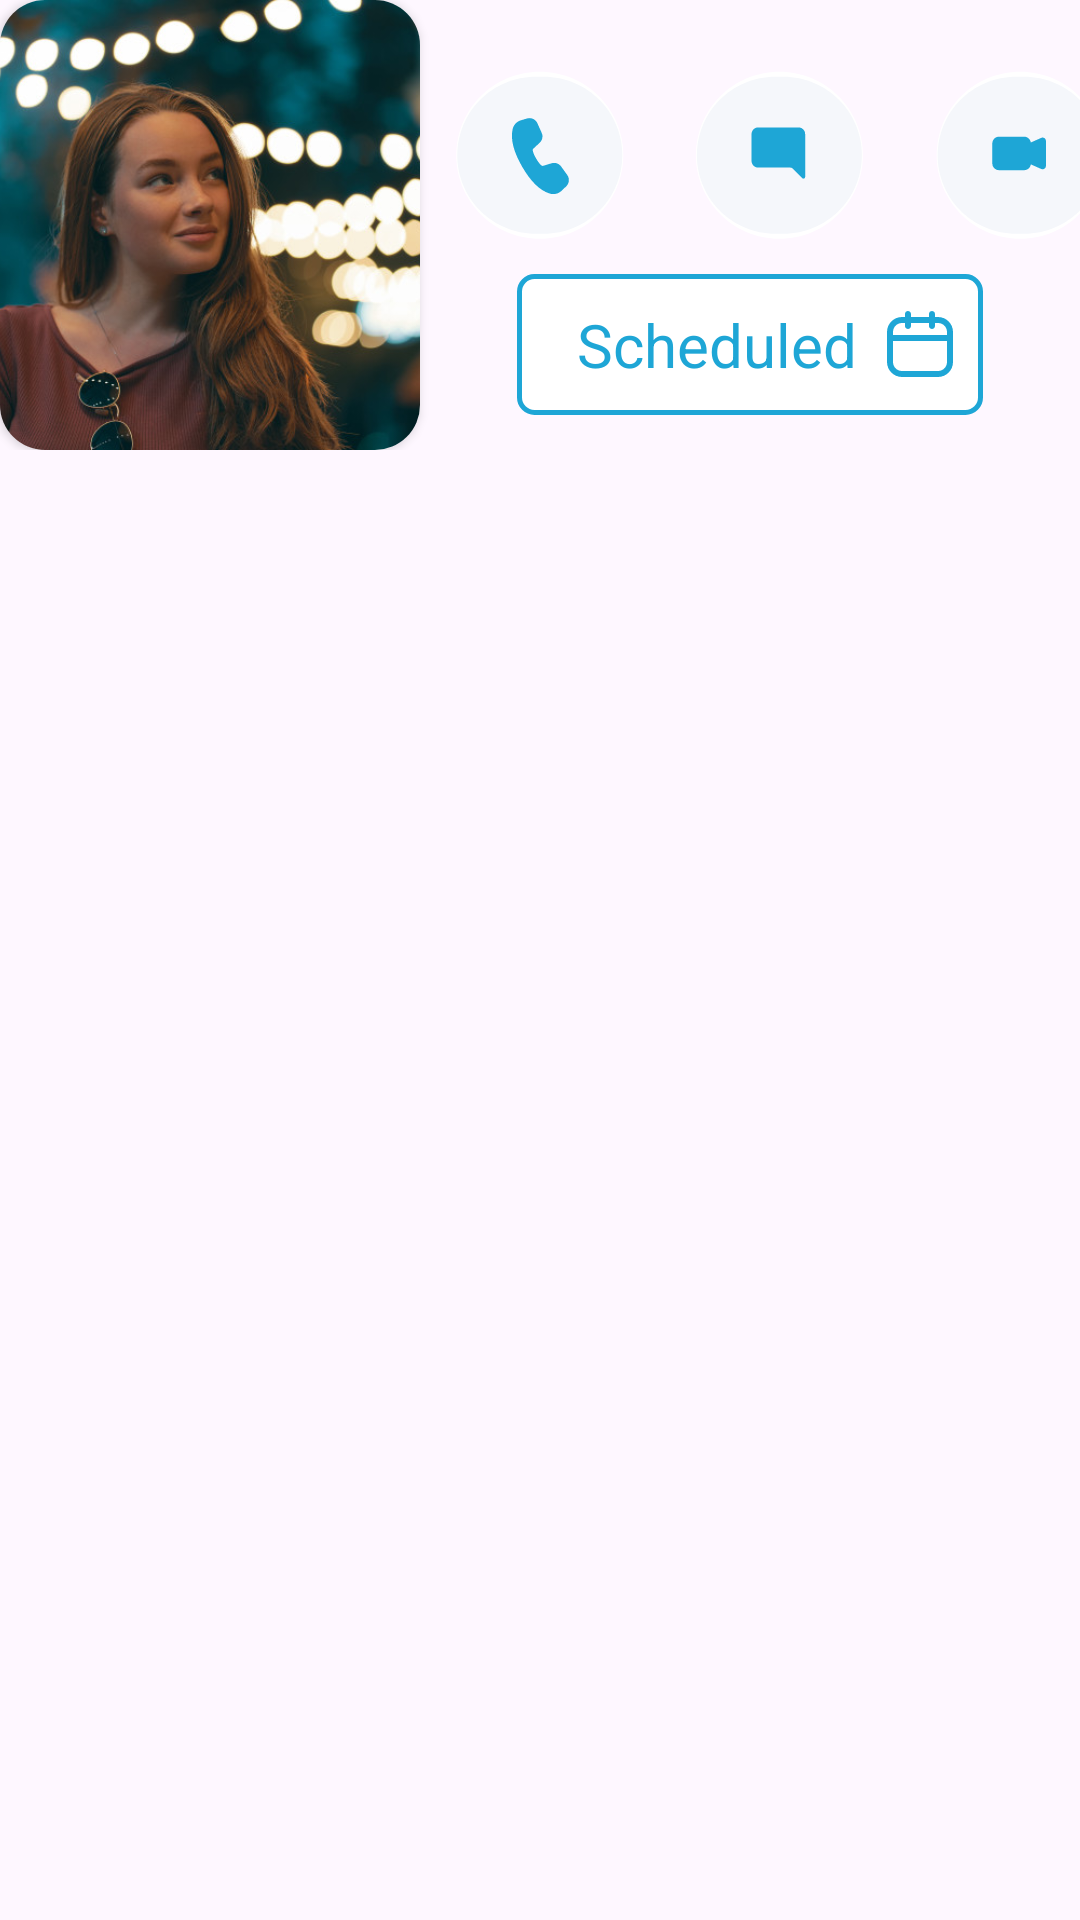

Icon bounding boxes for this 1080 × 1920 phone screenshot, format (x1, y1, x2, y2):
appointments: (887, 311, 953, 377)
circle audio call: (512, 118, 569, 194)
circle chat: (751, 127, 806, 179)
